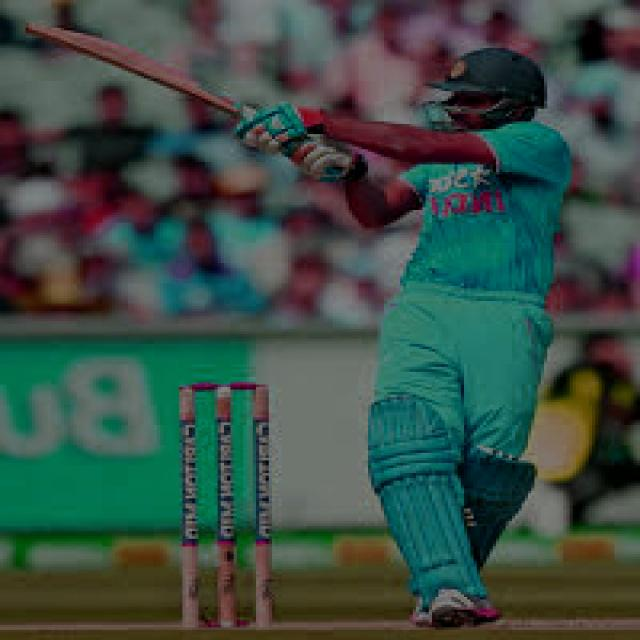toe: (20, 12, 52, 37)
